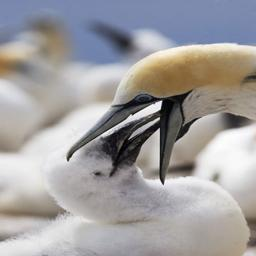bird: (39, 128, 256, 256), (86, 94, 256, 256)
